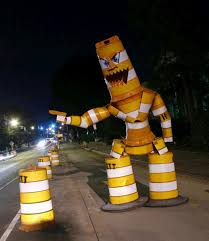barrel: (93, 39, 139, 96), (20, 169, 50, 226), (120, 99, 152, 145), (104, 159, 135, 203), (148, 156, 178, 199), (37, 159, 53, 178), (51, 151, 60, 166)
